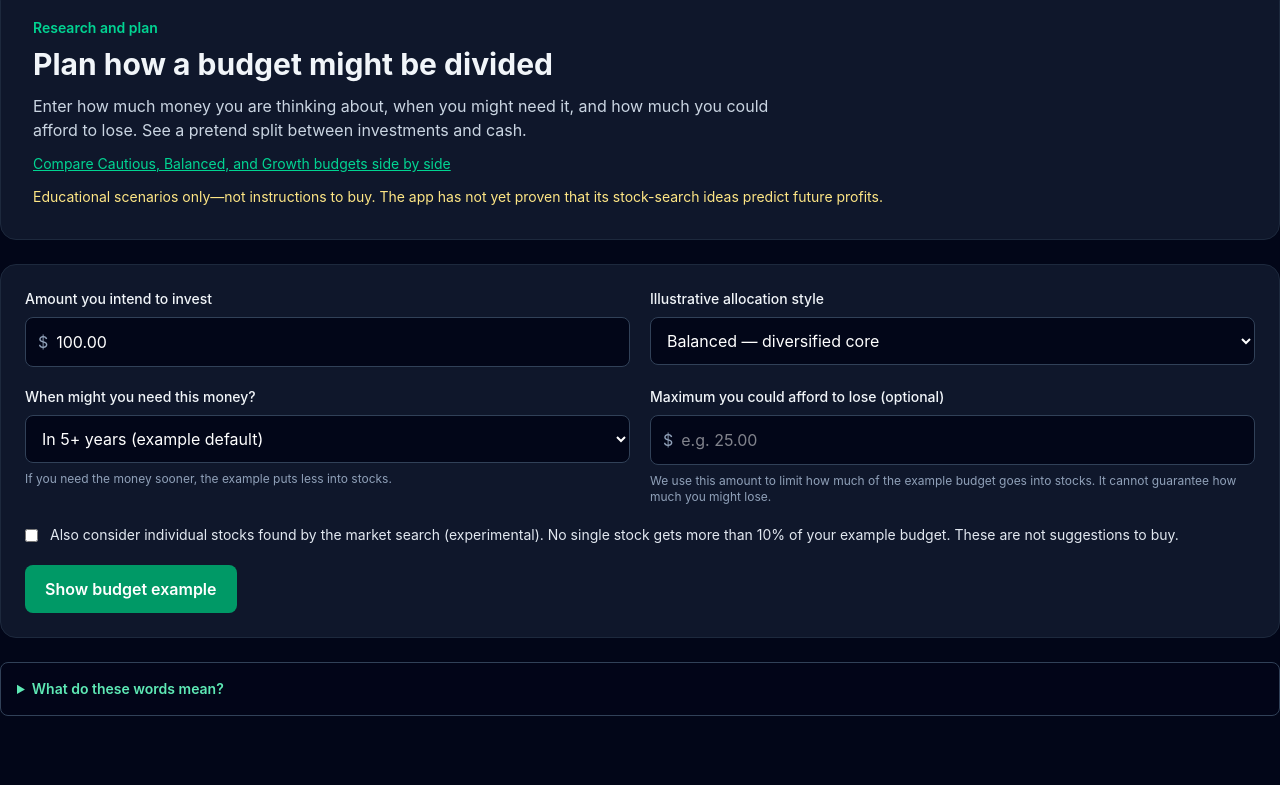
Test: BudgetPlannerPage › explains rejected stock pairs and retrospective portfolio risk
The image size is (1280, 785).
Step 1. Click the checkbox → (32, 536), box [25, 529, 38, 542]
(page scrolled)
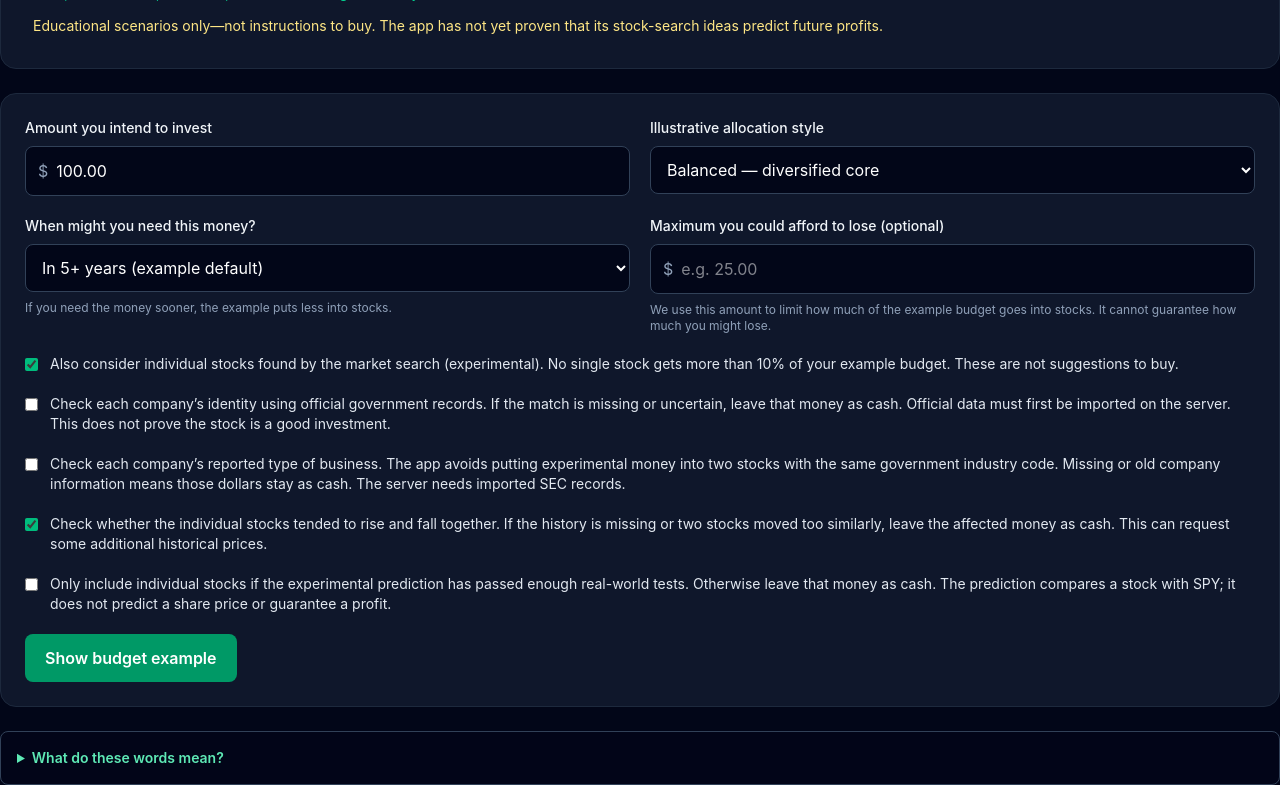
Step 2. Click the button "Show budget example" → (131, 658), box [25, 634, 236, 682]
(page scrolled)
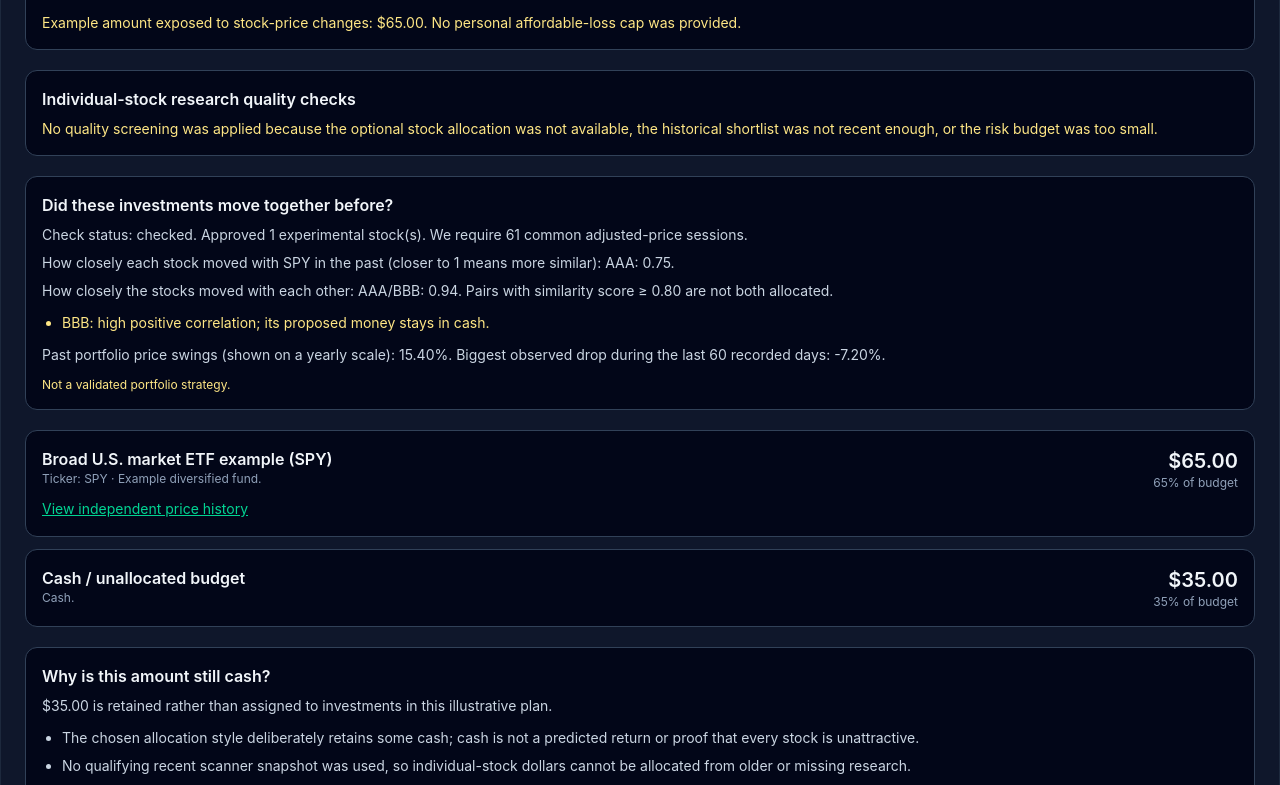
Expected: the heading "Did these investments move together before?" is shown, [42, 195, 393, 215]
Expected: the text "AAA/BBB: 0.94" is shown, [358, 282, 458, 299]
Expected: the list item "BBB: high positive correlation" is shown, [62, 314, 490, 331]
